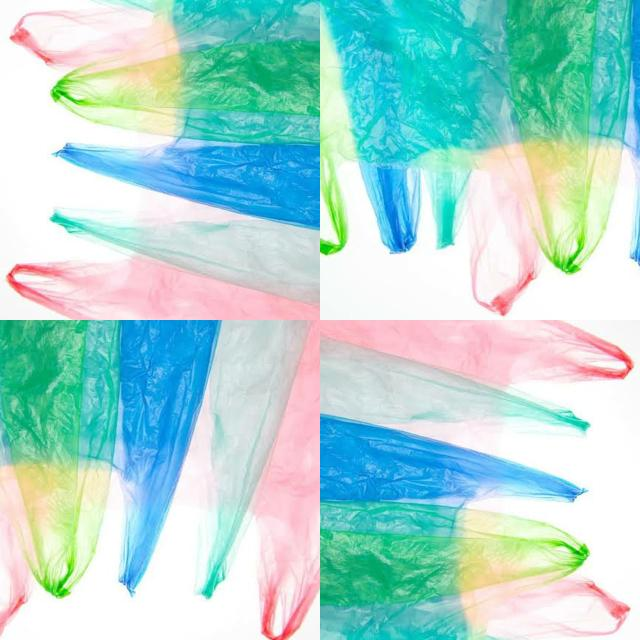Single-layer Plastic: (320, 415, 589, 639), (324, 0, 521, 252), (506, 0, 631, 273), (0, 321, 120, 595), (200, 321, 308, 597), (116, 320, 219, 592), (52, 40, 318, 144), (51, 210, 320, 304), (320, 339, 589, 432), (56, 139, 320, 228), (320, 415, 585, 502), (254, 321, 320, 640), (11, 0, 320, 67), (320, 320, 632, 384), (8, 258, 319, 320), (469, 145, 540, 315), (460, 575, 630, 640), (320, 15, 358, 255), (1, 434, 34, 632)
